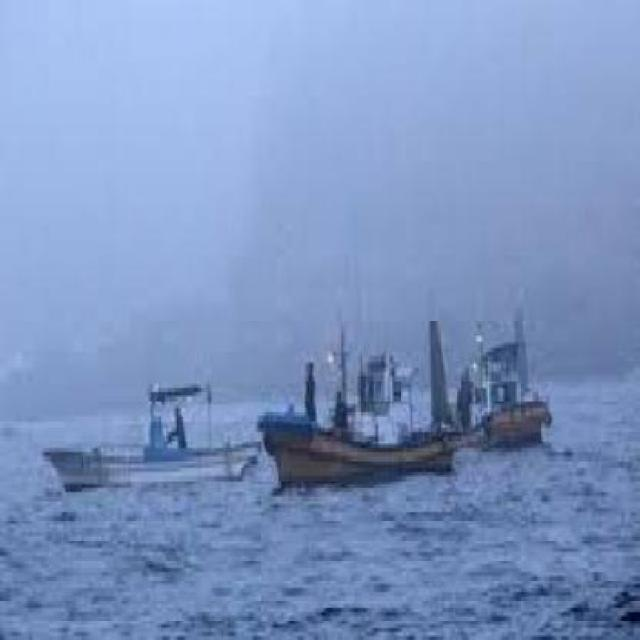fish-b: (255, 320, 481, 517), (31, 357, 271, 517)
